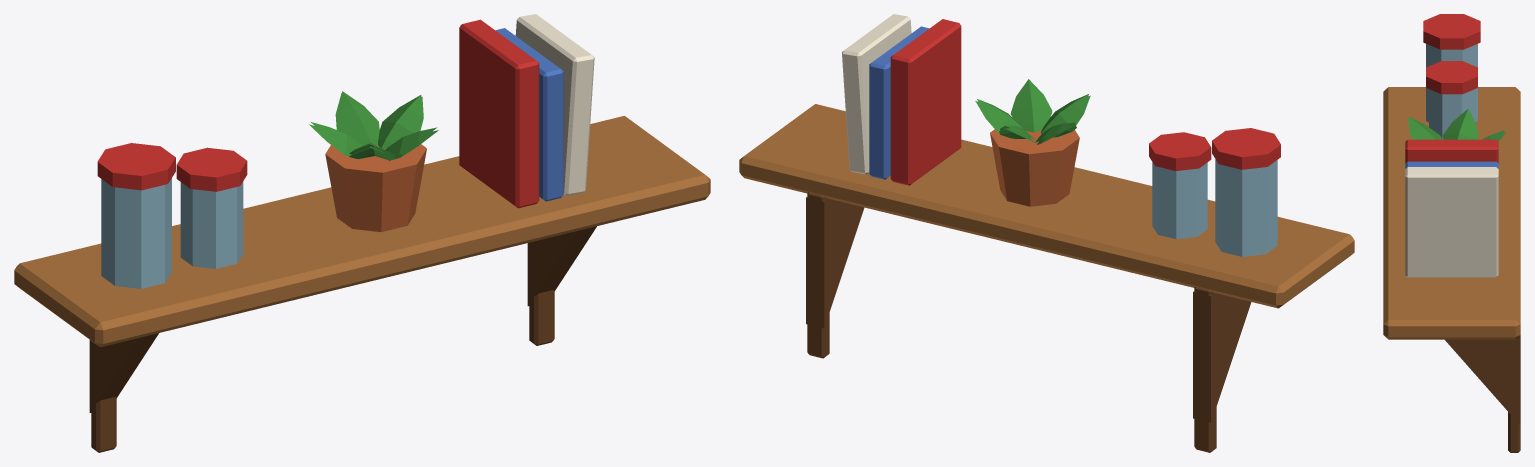
File: Prop_WallShelf.fbx
3 views of the same model, side by side, from view 1: azimuth 30°, elevation 25°; view 2: azimuth 150°, elevation 25°; view 3: azimuth 270°, elevation 25° (orthographic). The views are drawn at different scales.
Visible parts, largest first — view 1: Prop_WallShelf; view 2: Prop_WallShelf; view 3: Prop_WallShelf.
Boxes of the visible parts, x1,y1,x2,y2 form: Prop_WallShelf: (14, 14, 710, 452); Prop_WallShelf: (739, 14, 1354, 452); Prop_WallShelf: (1383, 14, 1520, 452).
Bounding box in the file's own units: 0.9 × 0.4875 × 0.22.
